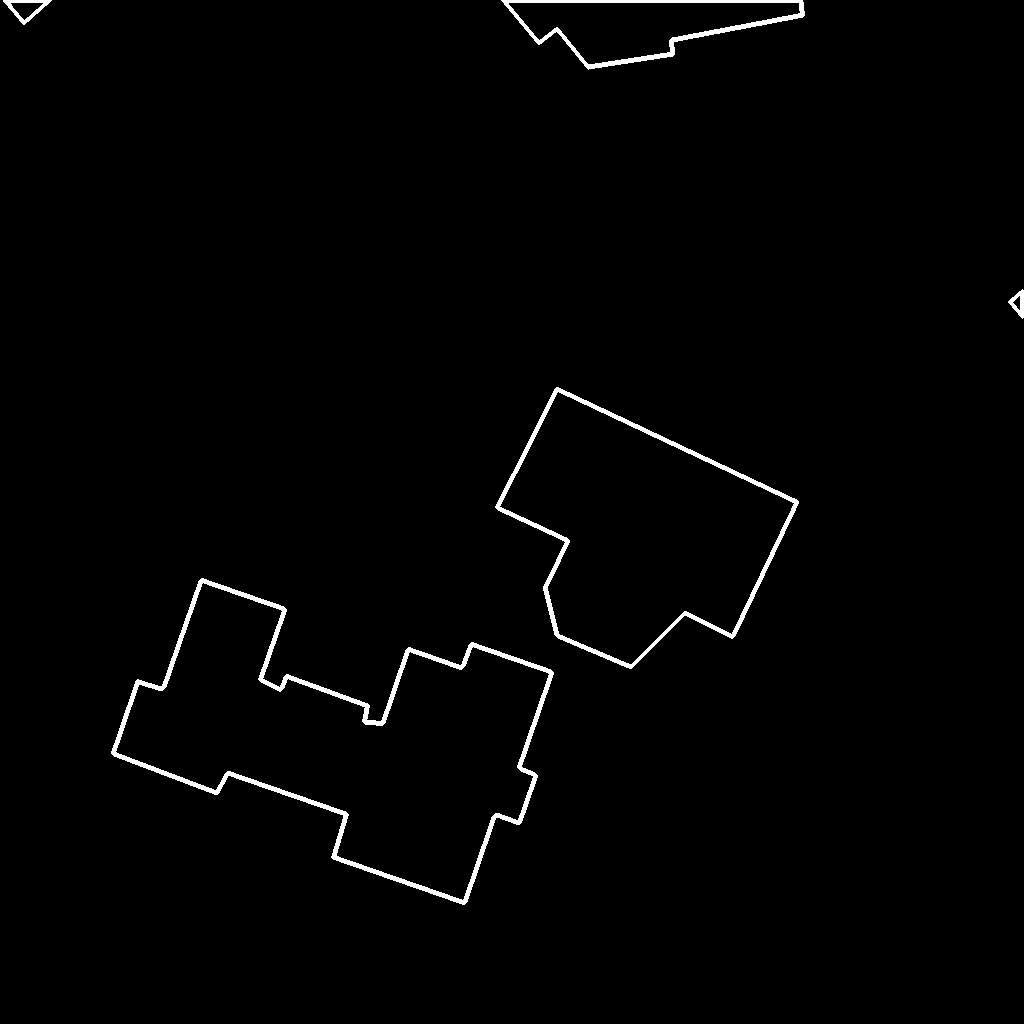building: (113, 580, 553, 904), (497, 389, 798, 668), (503, 0, 804, 68), (4, 0, 51, 24), (1010, 291, 1024, 318)
